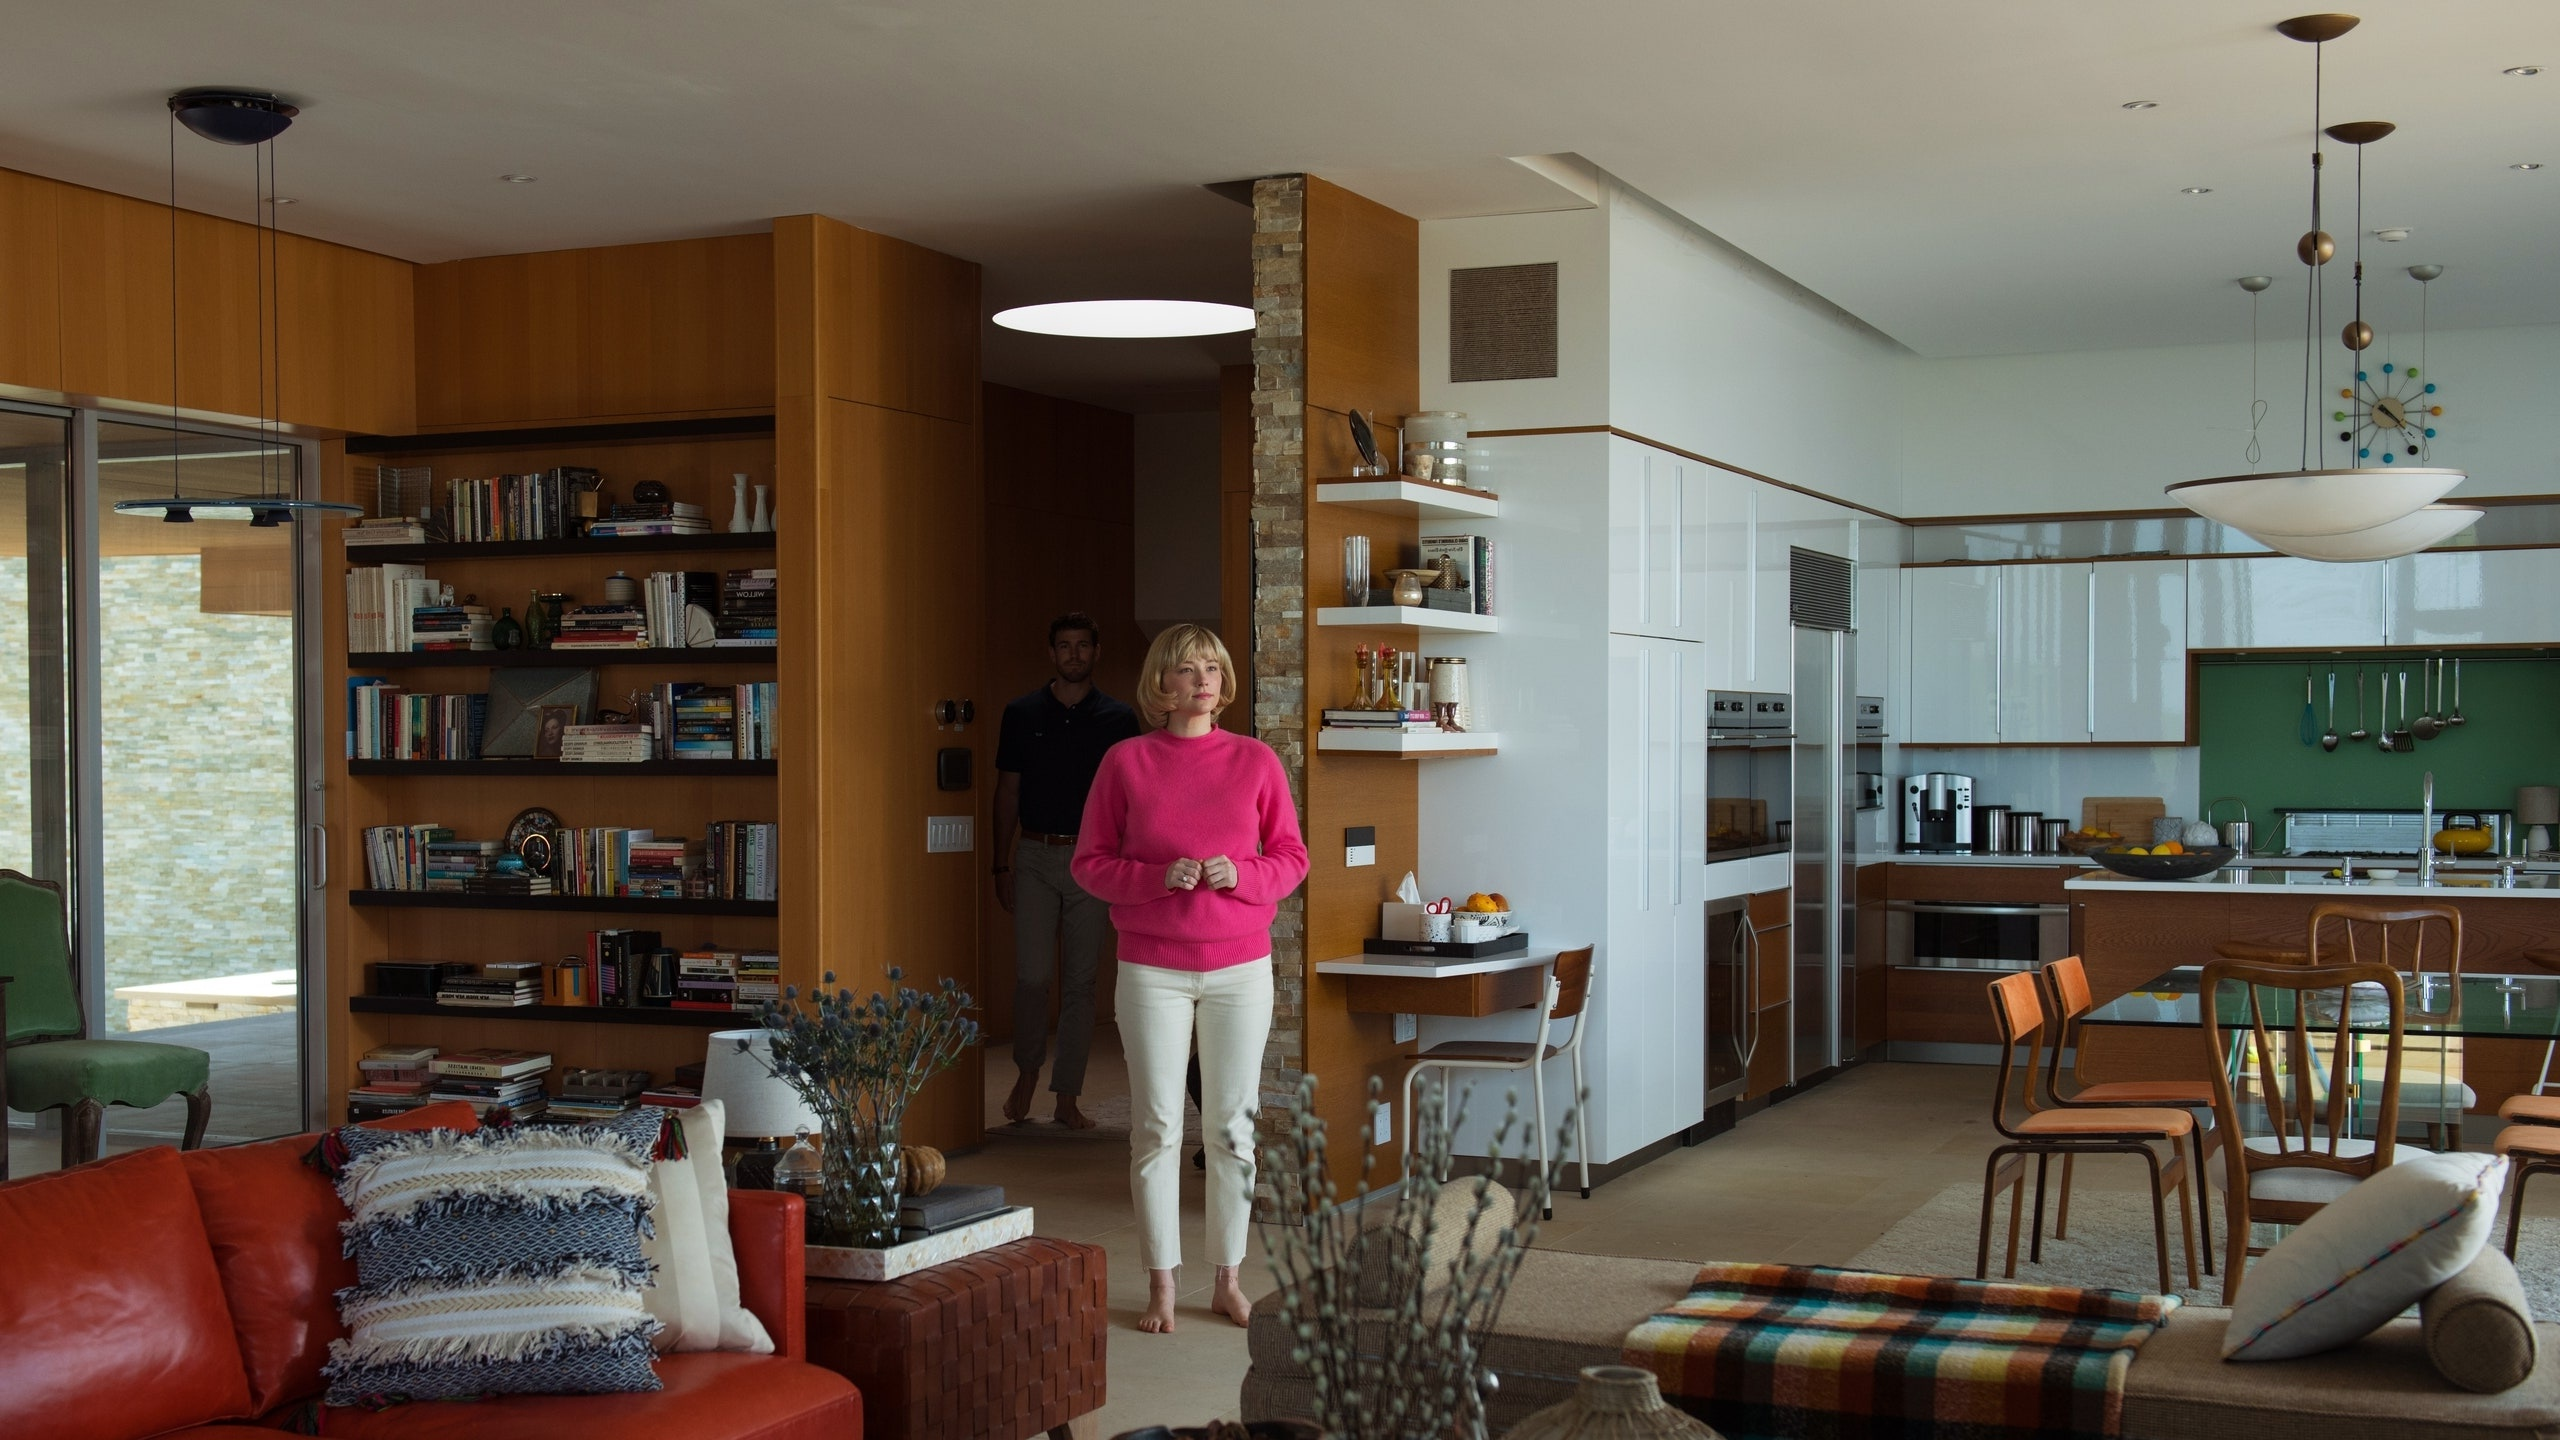not_fallen: (1081, 619, 1336, 1345), (960, 610, 1129, 1132)
